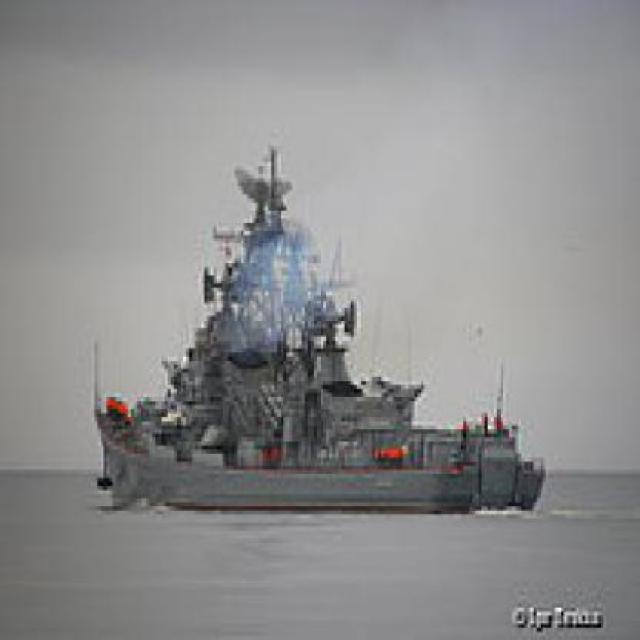warship2: (74, 118, 559, 519)
